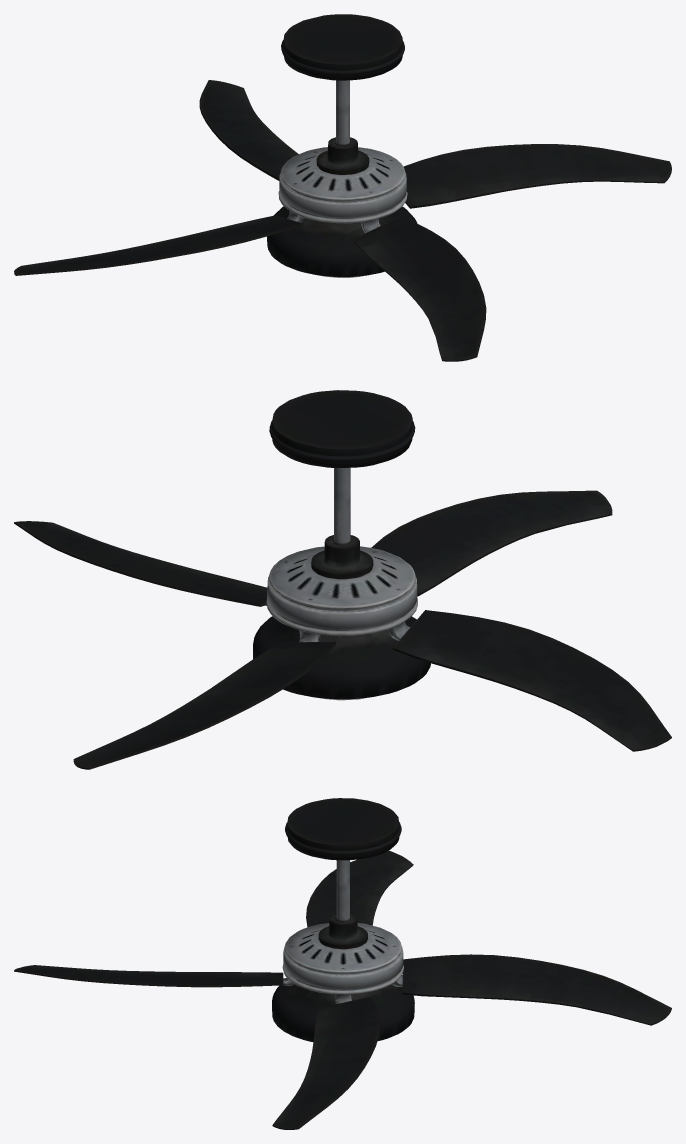
File: fan.glb
3 renders of one model, top to bottom at view 1: azimuth 30°, elevation 25°; view 2: azimuth 150°, elevation 25°; view 3: azimuth 270°, elevation 25°, orthographic. The views are drawn at different scales.
Visible parts, largest first — view 1: ceiling_fan_blades, ceiling_fan; view 2: ceiling_fan_blades, ceiling_fan; view 3: ceiling_fan_blades, ceiling_fan.
Part boxes in pixels (bbox=[...]): ceiling_fan_blades: bbox=[14, 80, 671, 361]; ceiling_fan: bbox=[267, 14, 417, 277]; ceiling_fan_blades: bbox=[14, 490, 671, 769]; ceiling_fan: bbox=[253, 390, 430, 700]; ceiling_fan_blades: bbox=[14, 850, 671, 1129]; ceiling_fan: bbox=[272, 798, 414, 1041].
Size of the model in its own units: 1.46 by 0.5163 by 1.46.
Materials: 1 (1 with a texture image).
